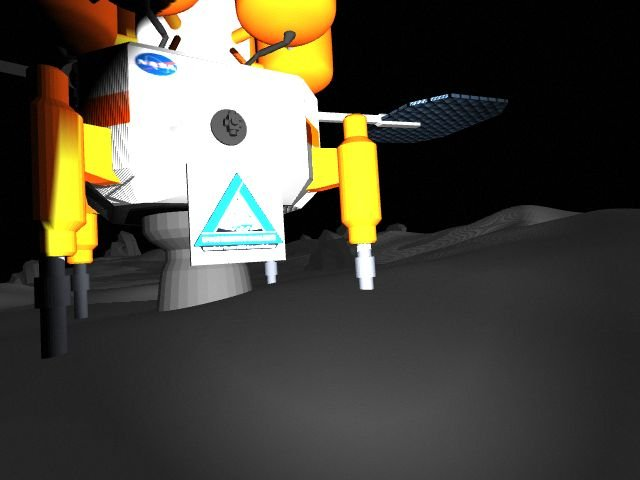basemarker: (193, 172, 284, 253)
